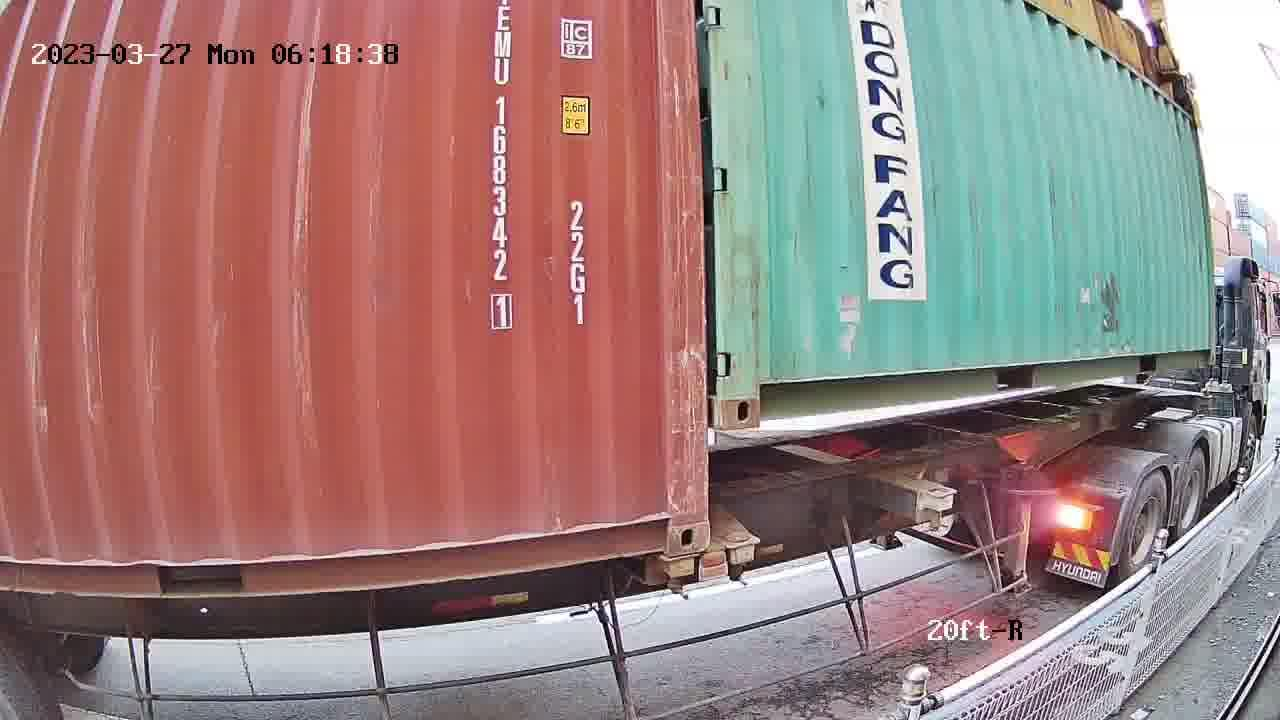Cone: (718, 531, 757, 583), (661, 555, 697, 601)
Hole_L: (721, 361, 797, 429)
Hole_R: (628, 488, 709, 556)
Tire: (1123, 471, 1167, 581), (1175, 453, 1207, 545)
